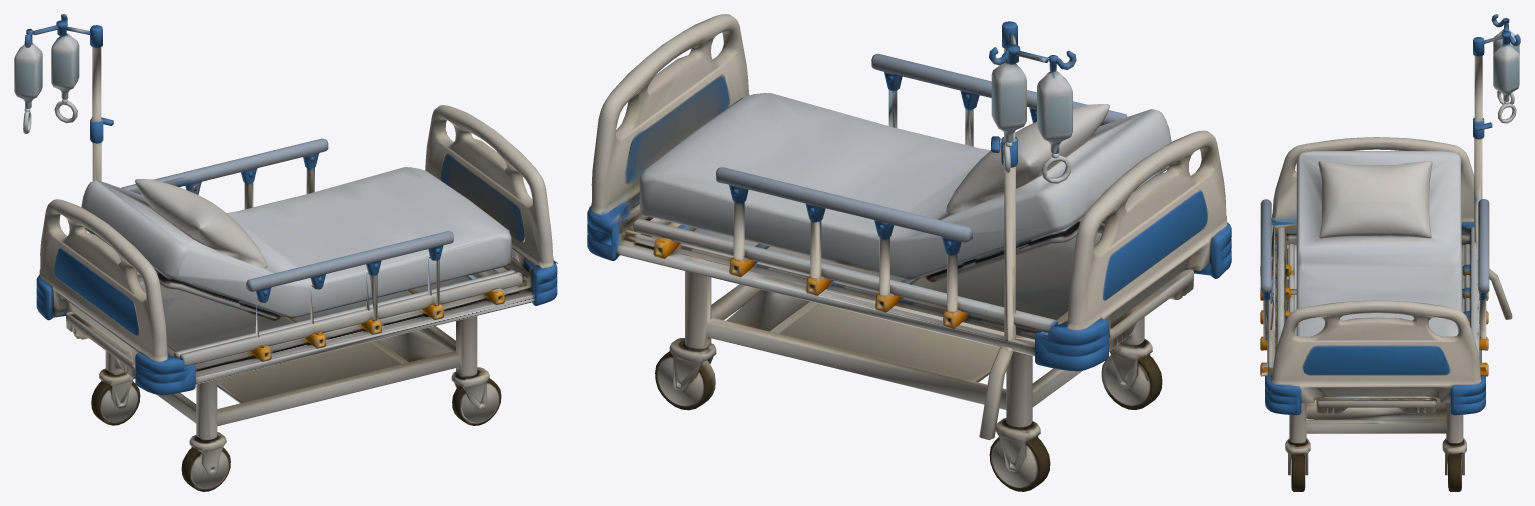
The model's file is Medical__a_hospital_gurney_b52d2a37_v2.cluster.glb.
The picture shows the model from 3 angles, left to right: view 1: azimuth 30°, elevation 25°; view 2: azimuth 150°, elevation 25°; view 3: azimuth 270°, elevation 25°; orthographic projection. The views are drawn at different scales.
Visible parts, largest first — view 1: material; view 2: material; view 3: material.
Boxes of the visible parts, x1=… form: material: x1=14, y1=14, x2=557, y2=491; material: x1=587, y1=14, x2=1231, y2=491; material: x1=1260, y1=14, x2=1520, y2=491.
Size of the model in its own units: 1.9 by 1.7 by 1.2.
Materials: 1 (1 with a texture image).
